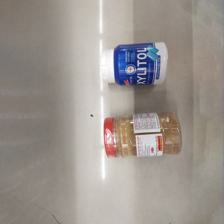Hao_hao: (98, 108, 185, 163)
Xylitol_blue: (99, 40, 170, 88)
